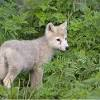Lobo: (4, 24, 80, 87)
